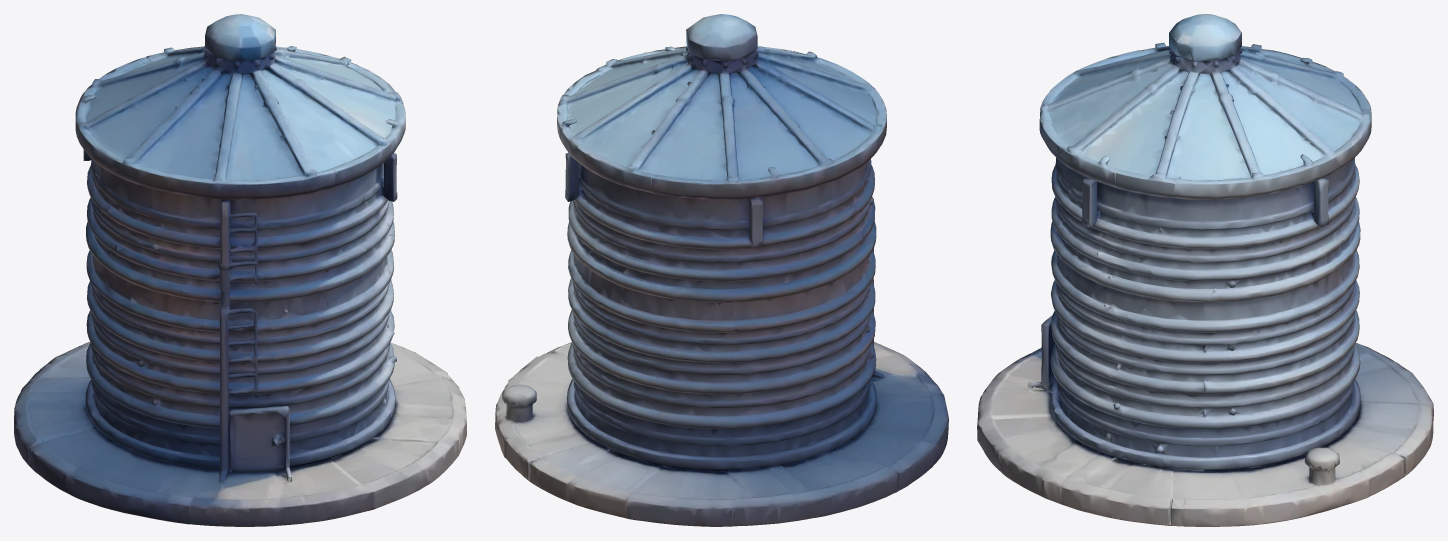
The model's file is silo.glb.
3 renders of one model, left to right at view 1: azimuth 30°, elevation 25°; view 2: azimuth 150°, elevation 25°; view 3: azimuth 270°, elevation 25°, orthographic.
Parts seen in each view (by area): view 1: tripo_node_6db8860f-03b7-4d10-a32e-8c662605afa4; view 2: tripo_node_6db8860f-03b7-4d10-a32e-8c662605afa4; view 3: tripo_node_6db8860f-03b7-4d10-a32e-8c662605afa4.
Boxes of the visible parts, x1=… form: tripo_node_6db8860f-03b7-4d10-a32e-8c662605afa4: x1=14, y1=14, x2=466, y2=526; tripo_node_6db8860f-03b7-4d10-a32e-8c662605afa4: x1=495, y1=14, x2=948, y2=526; tripo_node_6db8860f-03b7-4d10-a32e-8c662605afa4: x1=977, y1=14, x2=1433, y2=526.
Size of the model in its own units: 0.9957 by 0.9991 by 1.
1 material, 1 textured.
